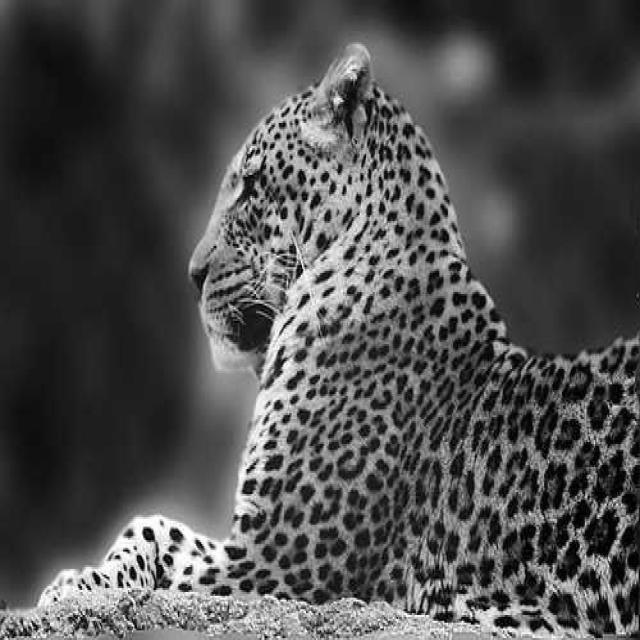Leopard: (15, 41, 525, 603)
